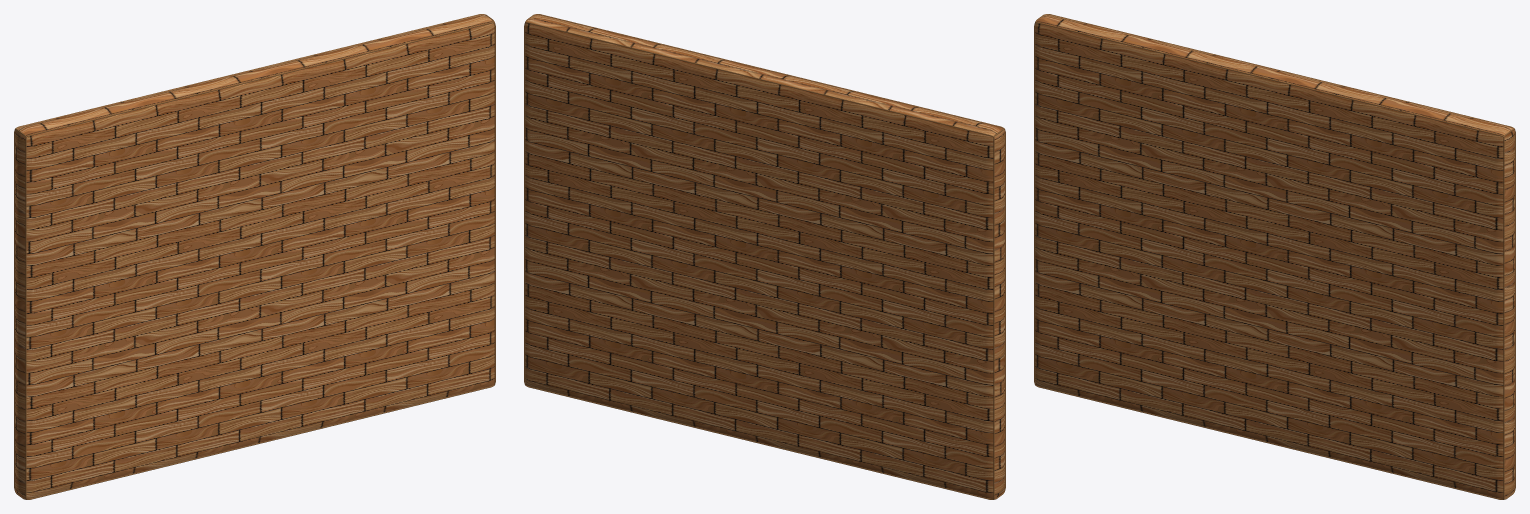
File: SM_SoftFoam_Wall_20_3x4M.fbx
3 views of the same model, side by side, from view 1: azimuth 30°, elevation 25°; view 2: azimuth 150°, elevation 25°; view 3: azimuth 330°, elevation 25° (orthographic).
Visible parts, largest first — view 1: SM_SoftFoam_Wall_20_3x4; view 2: SM_SoftFoam_Wall_20_3x4; view 3: SM_SoftFoam_Wall_20_3x4.
Part boxes in pixels (bbox=[...]): SM_SoftFoam_Wall_20_3x4: bbox=[14, 14, 495, 499]; SM_SoftFoam_Wall_20_3x4: bbox=[524, 14, 1005, 499]; SM_SoftFoam_Wall_20_3x4: bbox=[1034, 14, 1515, 499].
Size of the model in its own units: 390 by 290 by 20.
